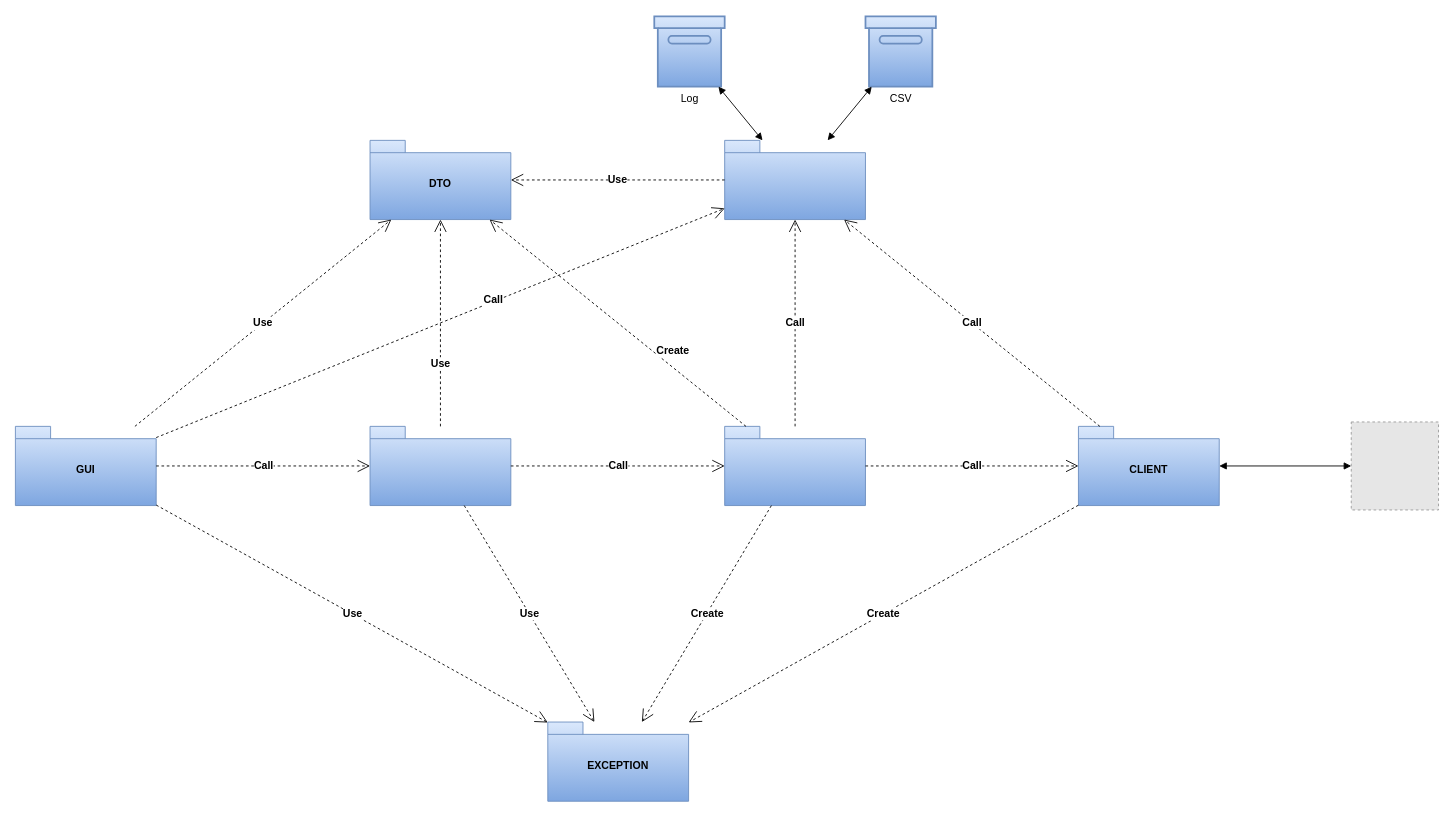
This 1455x817 diagram has some shape labels left out. Grey dashed boxes stand in for pictures. Each missing label, with the box of its shape:
CONTROLLER: (369, 425, 511, 506)
SERVICE: (724, 425, 865, 506)
UTIL: (724, 139, 865, 220)
